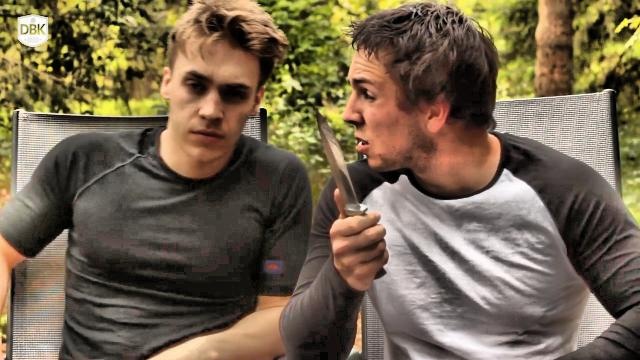knife: (305, 95, 391, 285)
